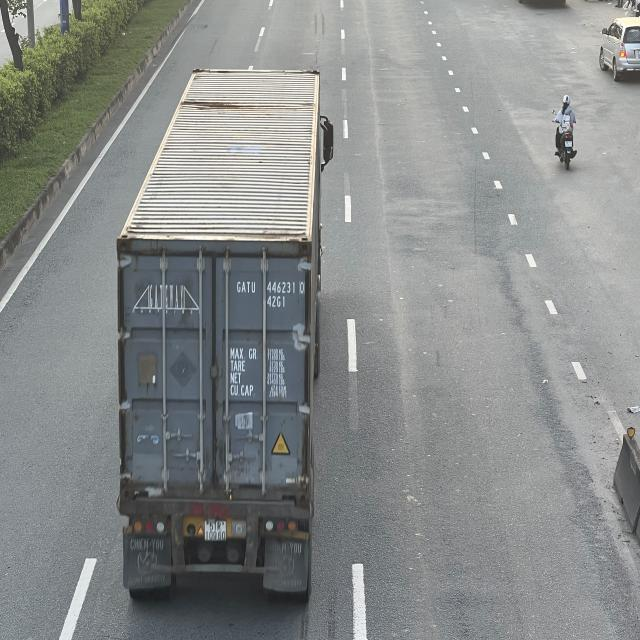car: (601, 16, 640, 78)
container: (121, 69, 337, 600)
